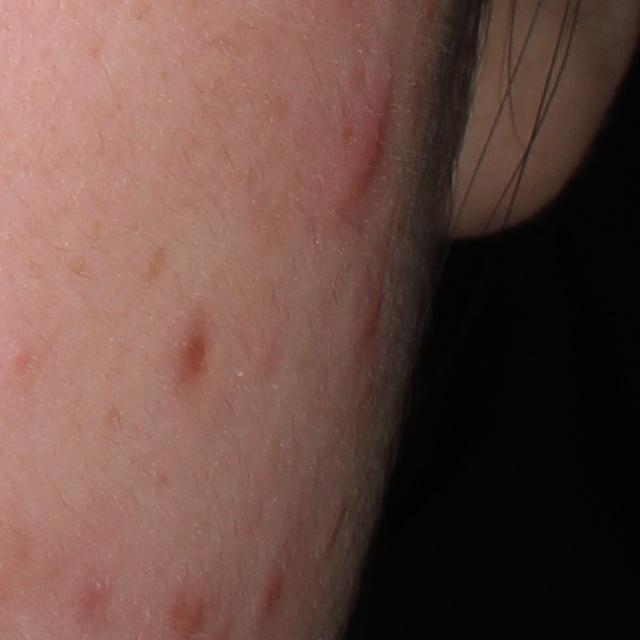papule: (341, 95, 395, 209), (155, 315, 217, 386), (251, 572, 285, 620), (359, 287, 384, 342)
